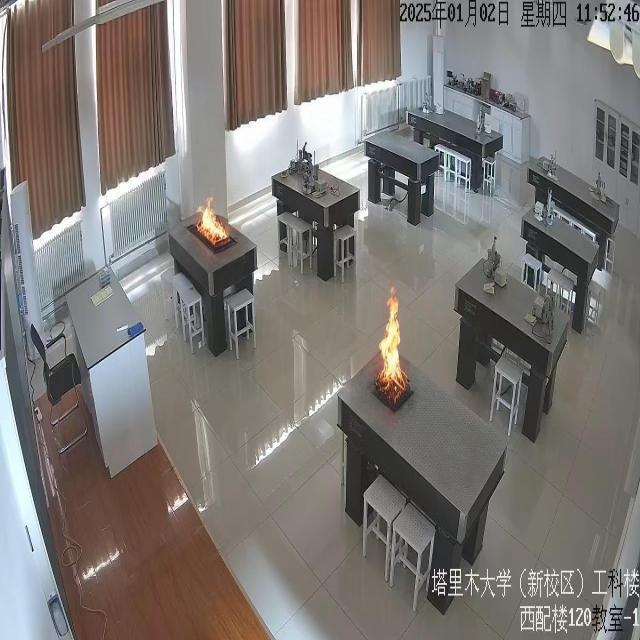smoke: (376, 291, 408, 393), (196, 193, 230, 247)
